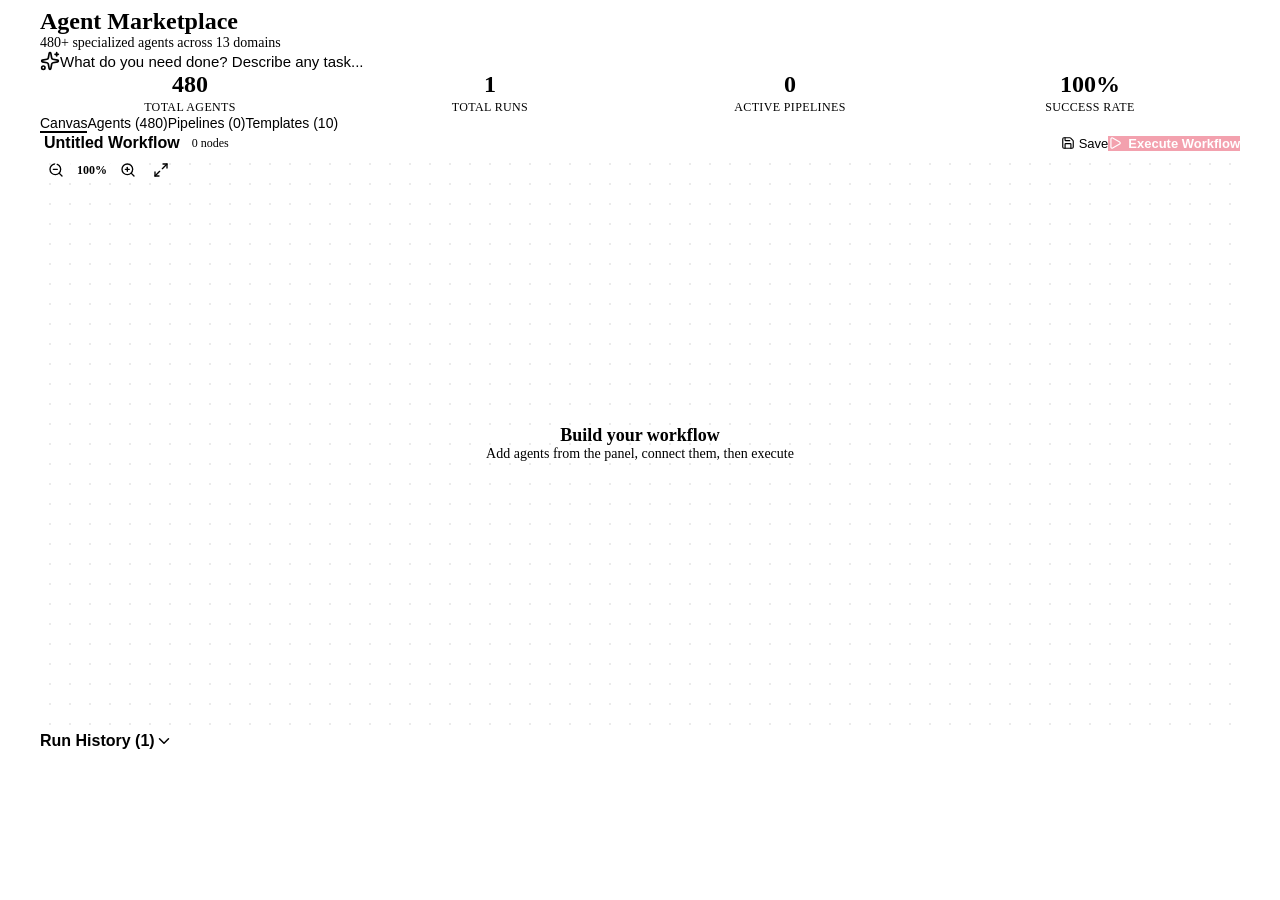
Test: AIAgentsPage › toggles run history table visibility
The width and height of the screenshot is (1280, 900).
Click the button "Run History (1)" at (90, 740), box [40,732,1240,750]
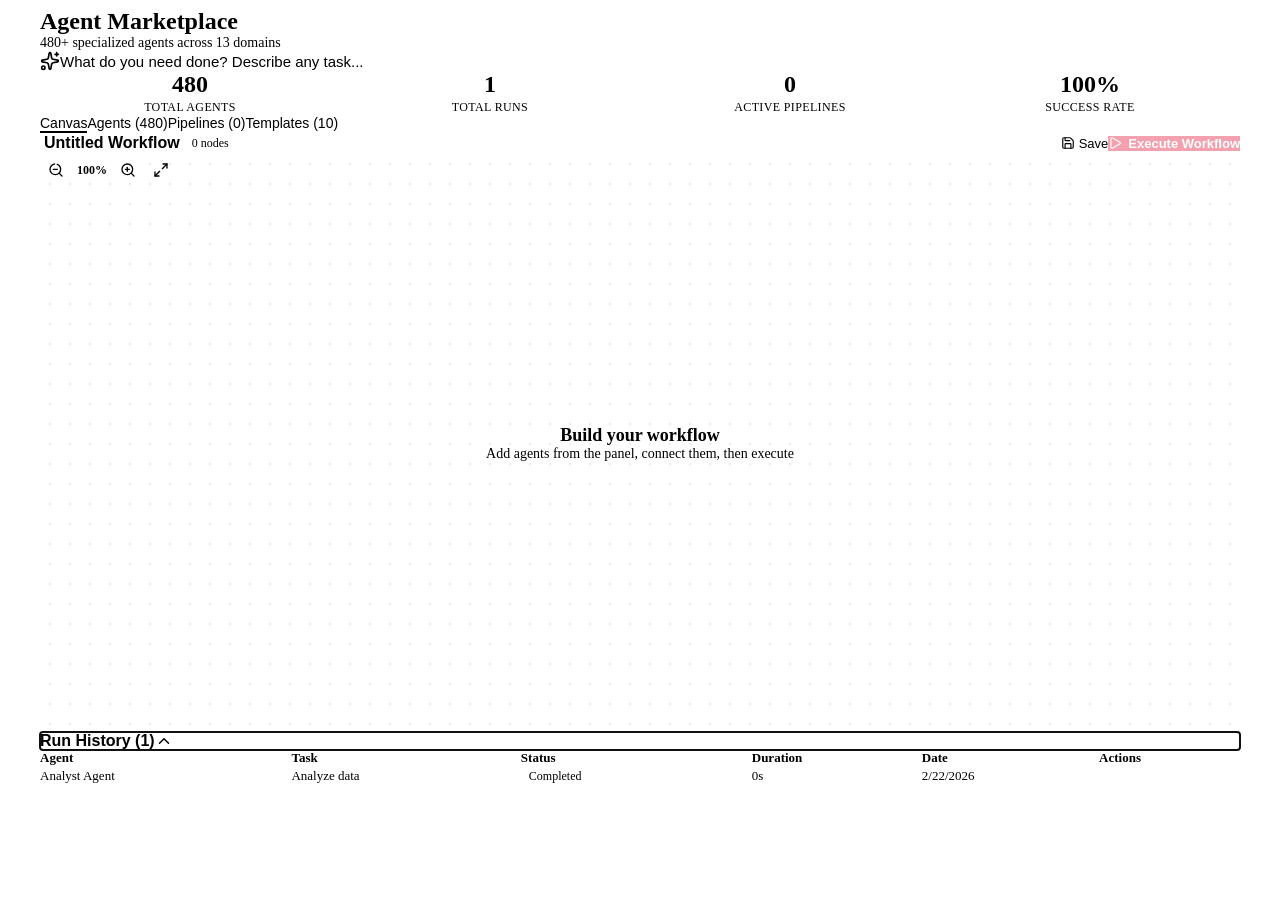
Now the table is shown, box [40,750,1240,786]
Now the text "Analyze data" is shown, box [291,766,521,786]
